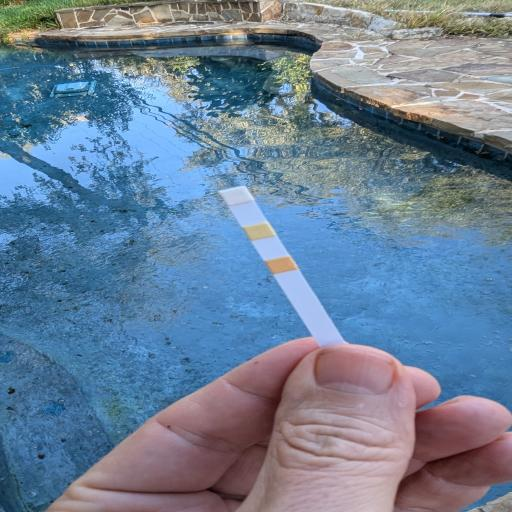strip: (218, 185, 347, 347)
